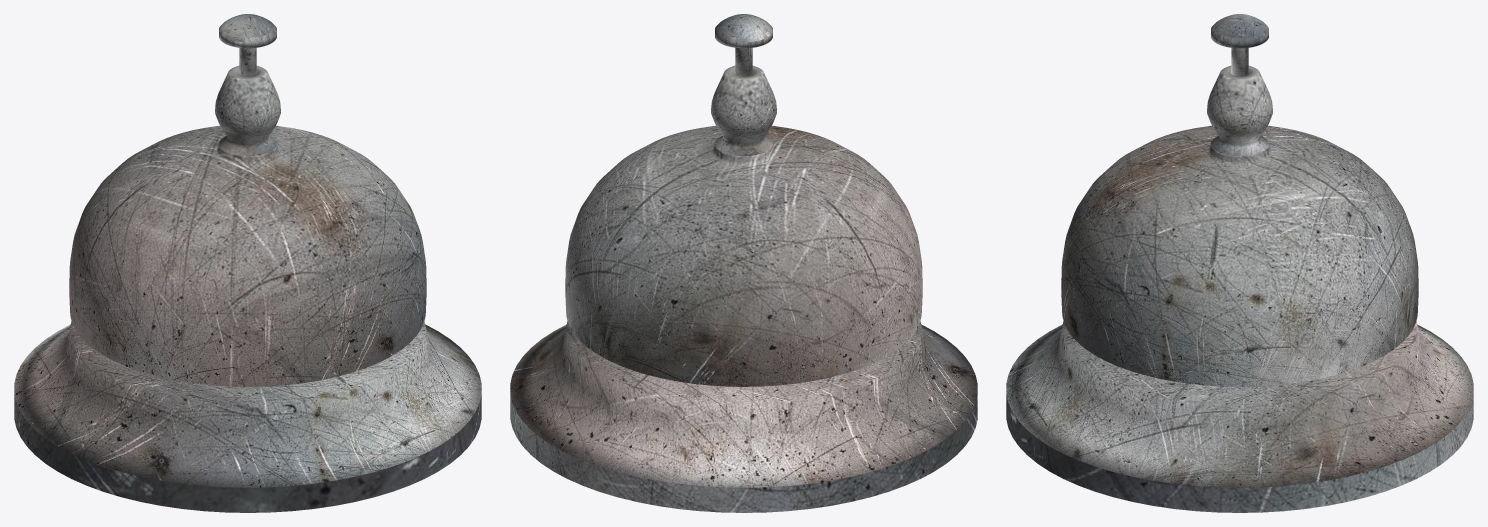
Rendered from bell_model3.fbx.
The picture shows the model from 3 angles, left to right: view 1: azimuth 30°, elevation 25°; view 2: azimuth 150°, elevation 25°; view 3: azimuth 270°, elevation 25°; orthographic projection.
Parts seen in each view (by area): view 1: Vert.001, Vert.003, Vert.002; view 2: Vert.001, Vert.003, Vert.002; view 3: Vert.001, Vert.003, Vert.002.
Part boxes in pixels (<box>): Vert.001: <box>69,65,426,386</box>; Vert.003: <box>14,321,481,512</box>; Vert.002: <box>219,14,276,76</box>; Vert.001: <box>565,65,922,386</box>; Vert.003: <box>510,321,977,512</box>; Vert.002: <box>715,14,772,76</box>; Vert.001: <box>1061,65,1418,386</box>; Vert.003: <box>1006,321,1473,512</box>; Vert.002: <box>1211,14,1268,76</box>.
Bounding box in the file's own units: 343 × 321 × 343.
3 materials, 3 textured.
